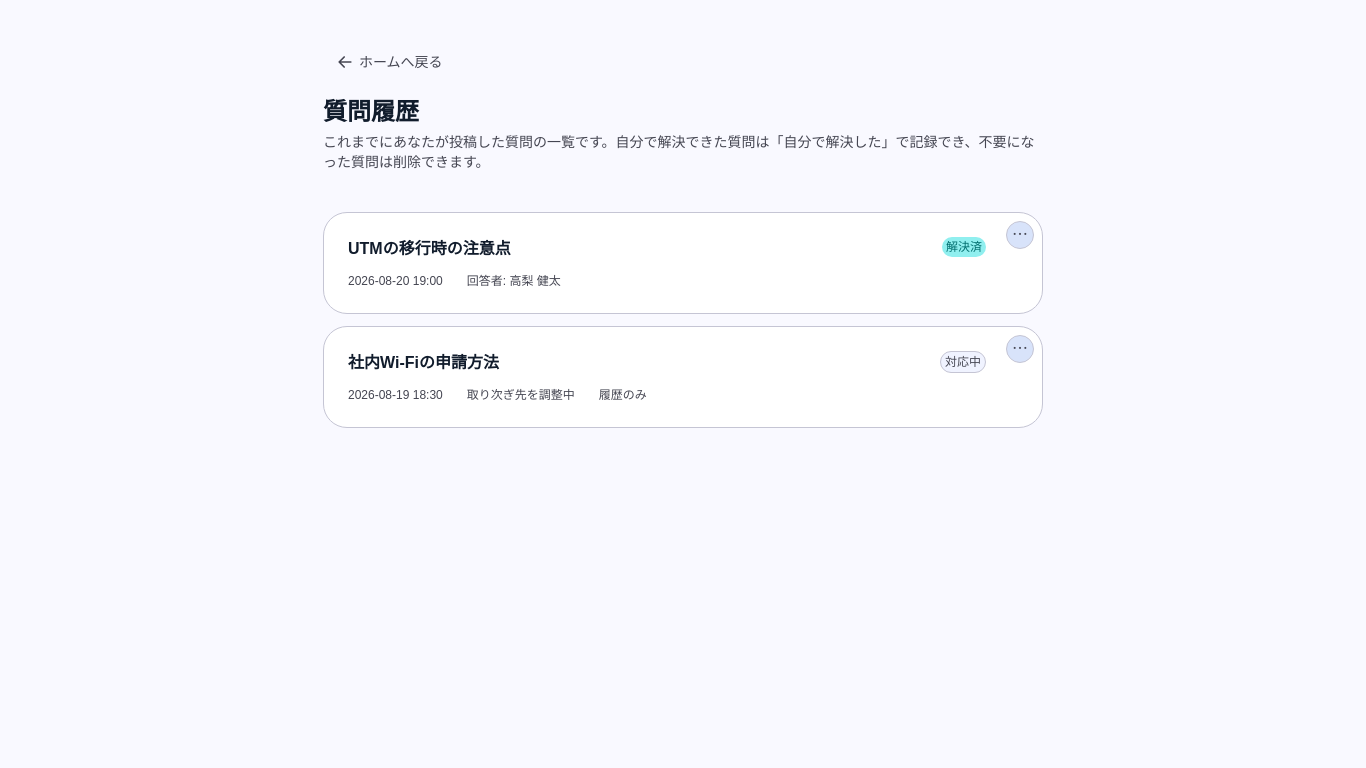
Test: HistoryScreen › shows an error and keeps the row when delete fails
This screenshot has width=1366, height=768.
Expected: the heading "社内Wi-Fiの申請方法" is shown, [348,351,499,375]
Click the button named "「社内Wi-Fiの申請方法」の操作".
click(1020, 349)  # box [1006,335,1034,363]
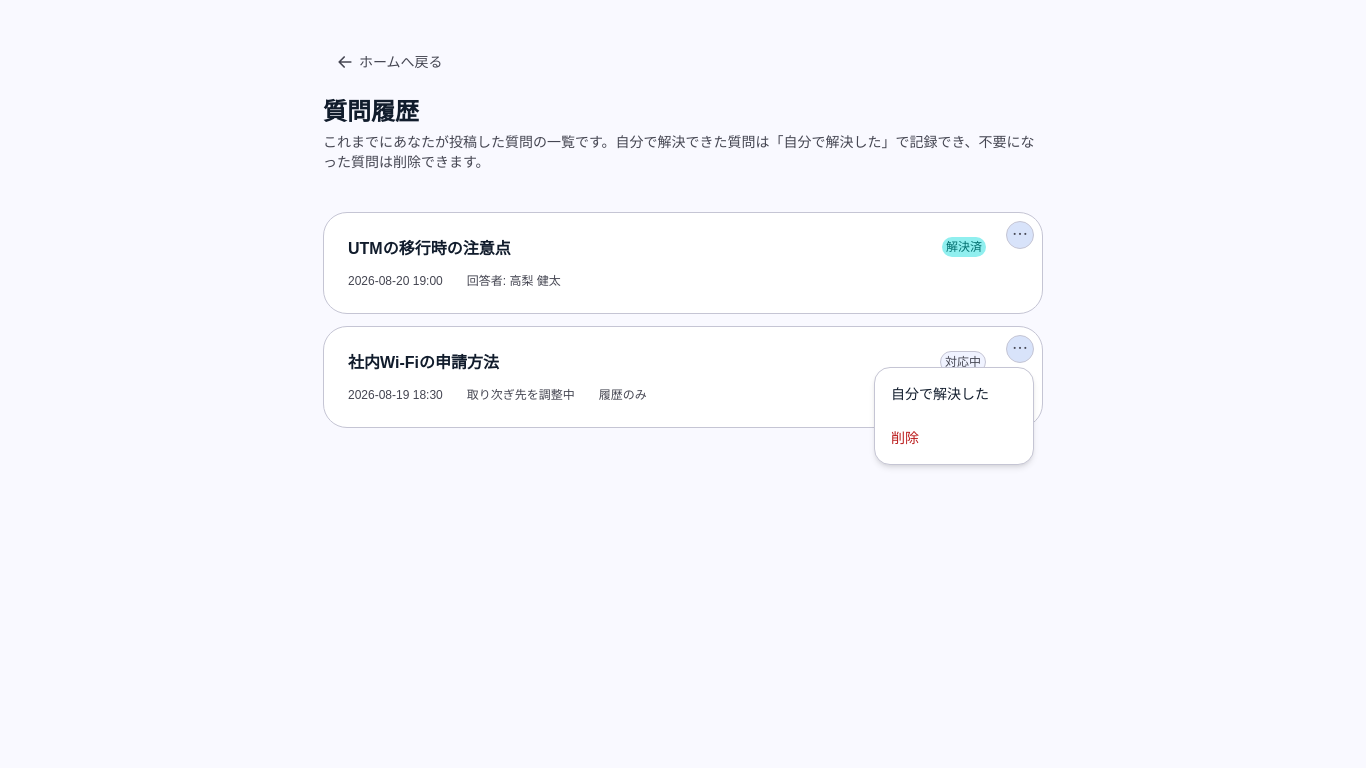
Click the menu item "削除".
click(954, 438)  # box [879,416,1029,460]
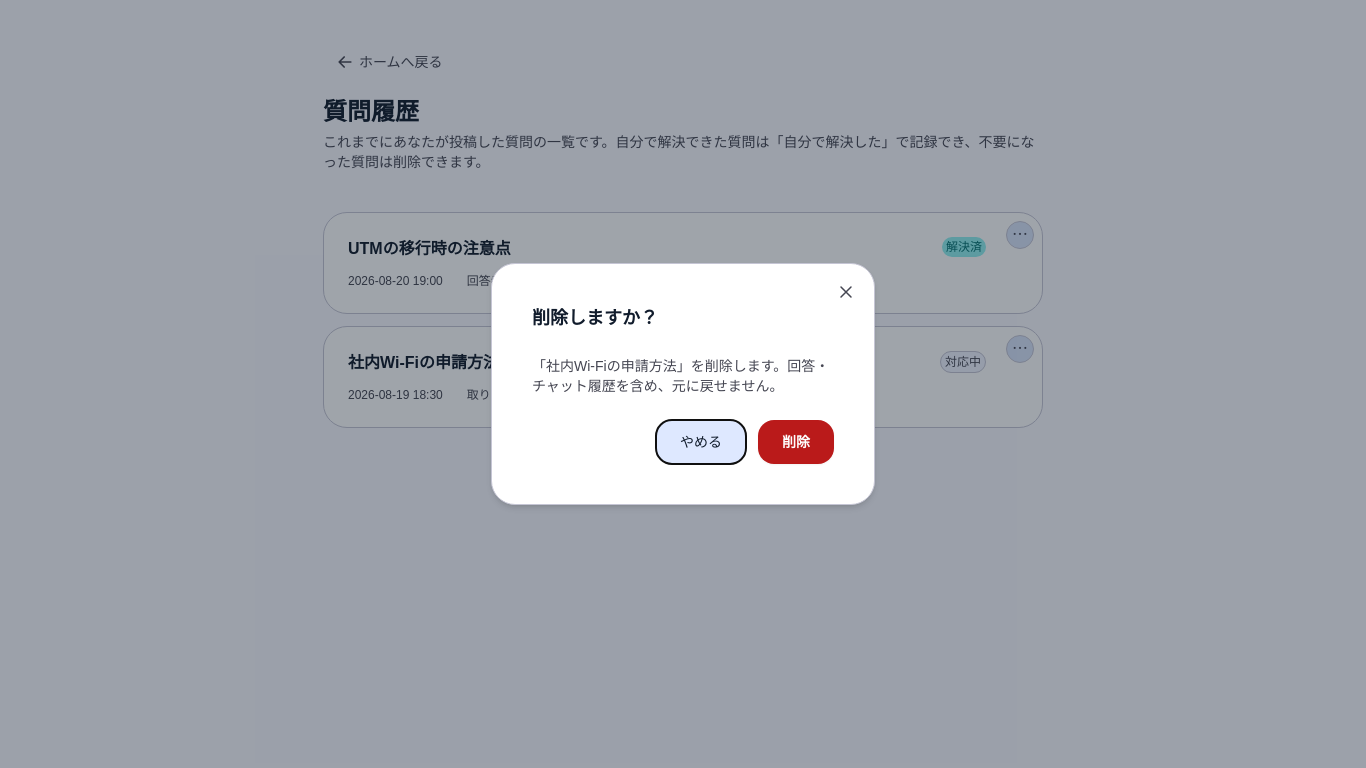
Click the button "削除".
click(796, 442)  # box [758,420,834,464]
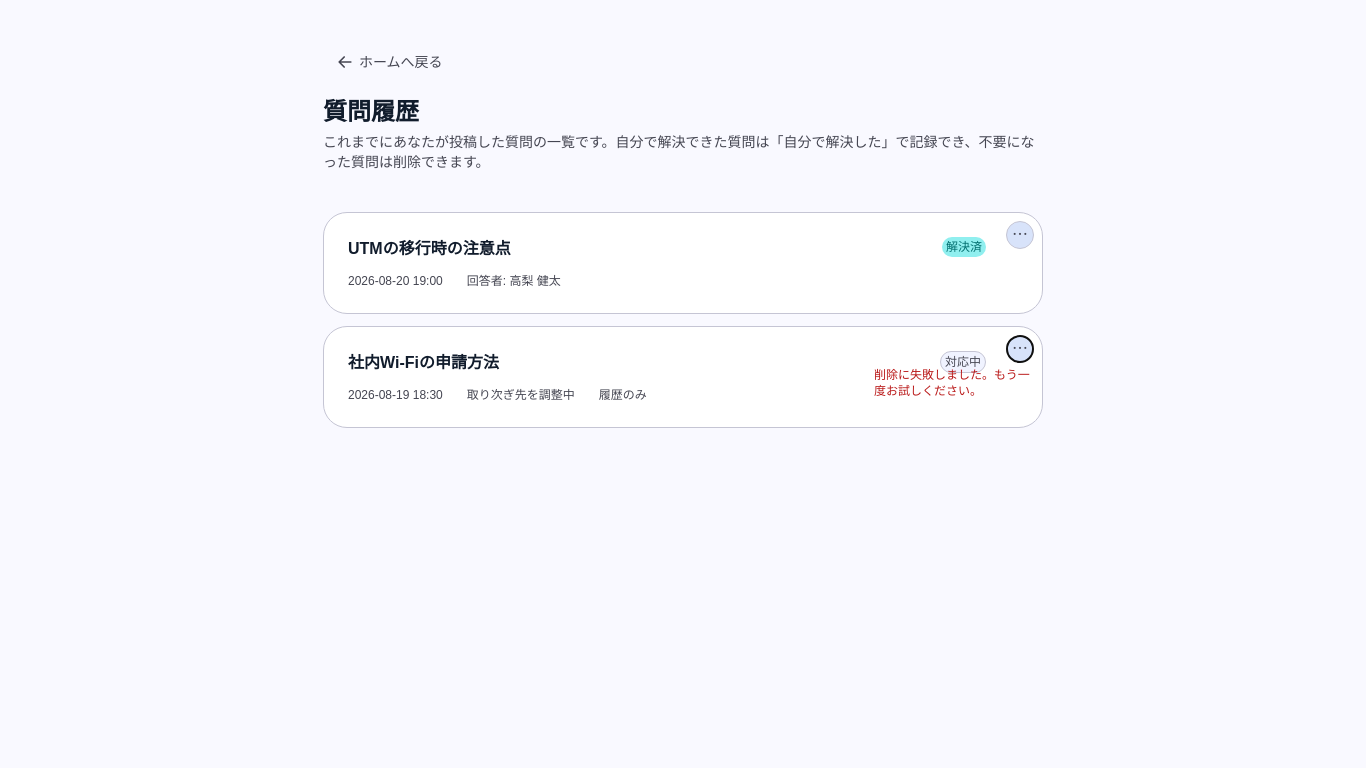
Expected: the heading "社内Wi-Fiの申請方法" is shown, [348,351,499,375]
Result: the text "削除に失敗しました。もう一度お試しください。" is shown at [874,367,1034,399]
